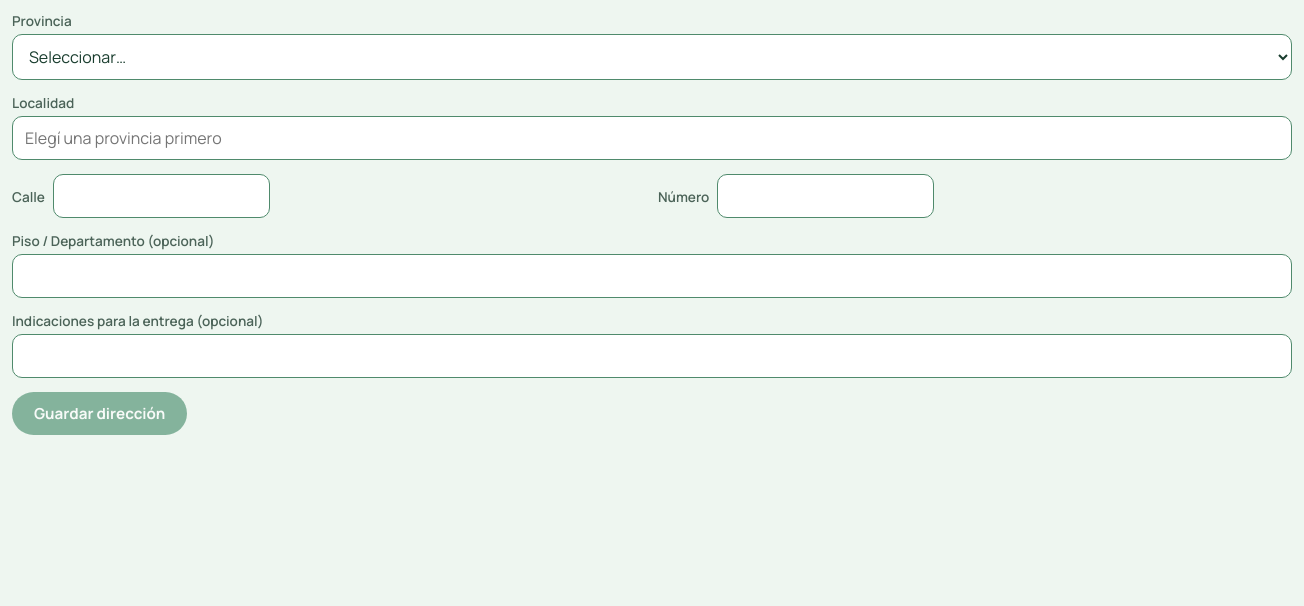
Test: DireccionForm › si falla la carga de localidades de la nueva provincia, no sugiere las de la provincia anterior (hallazgo de Codex)
The image size is (1304, 606).
Primero Santa Fe carga bien.
Select "Santa Fe" in the dropdown labelled "Provincia": {"x": 652, "y": 57} [12,34,1292,80]
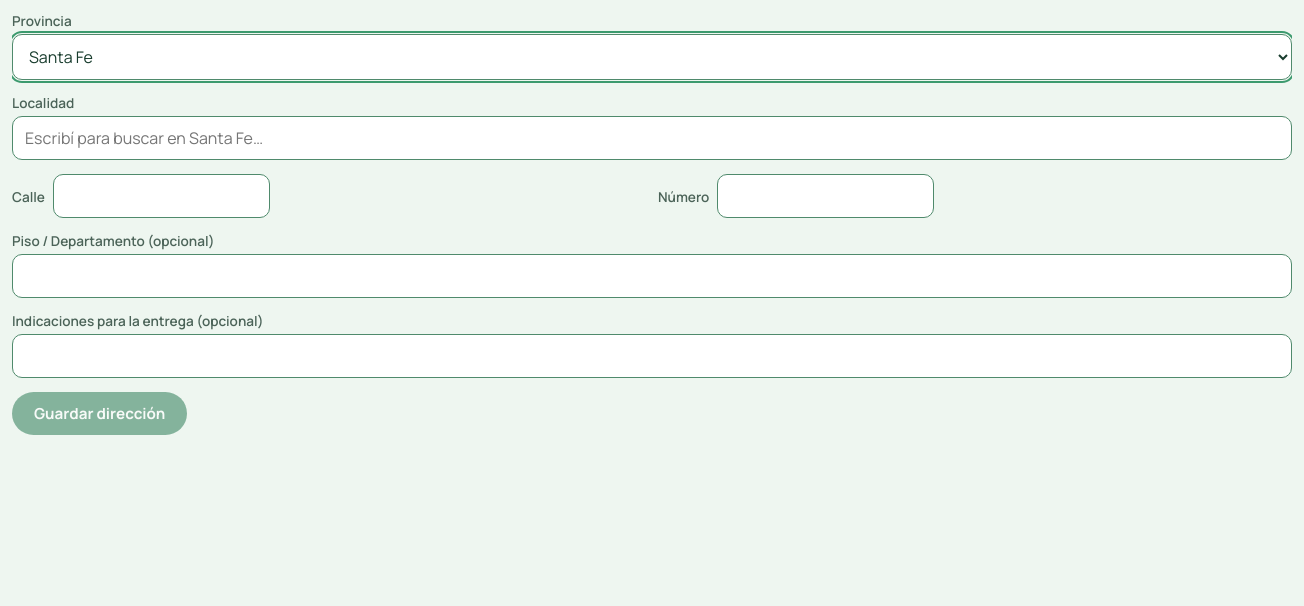
Check: the dropdown labelled "Localidad" is enabled, box [12,116,1292,160]
Select "Ciudad Autónoma de Buenos Aires" in the dropdown labelled "Provincia": {"x": 652, "y": 57} [12,34,1292,80]
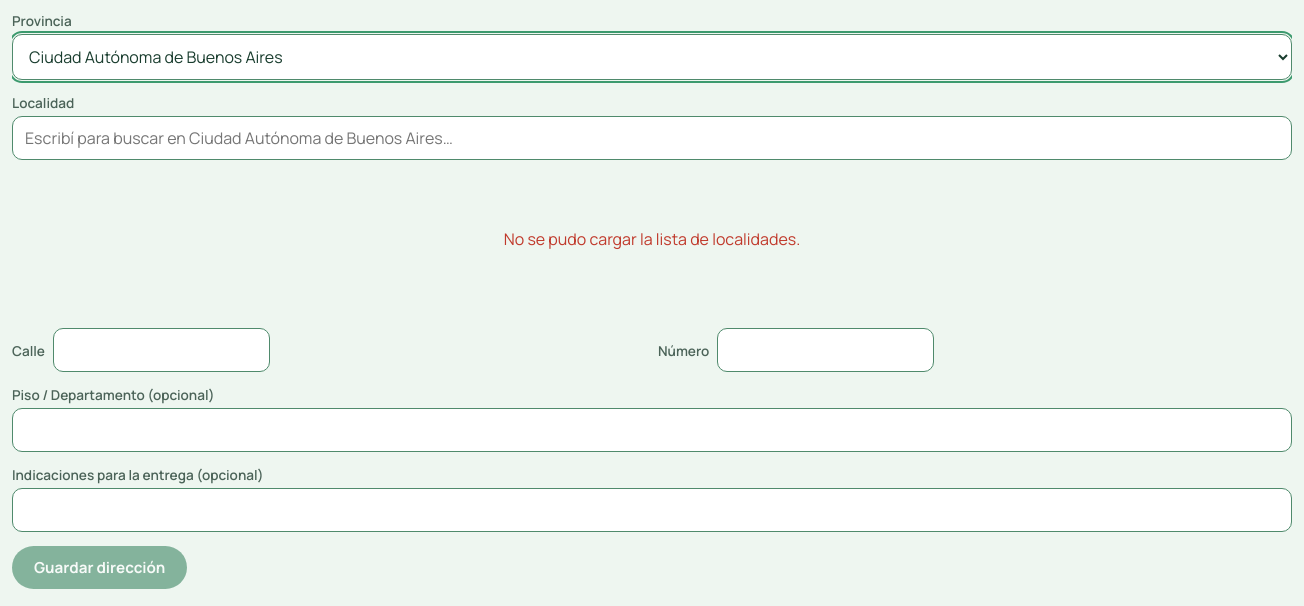
Check: the text "No se pudo cargar la lista de localidades." is shown, box [504,228,800,250]
Check: the dropdown labelled "Localidad" is disabled, box [12,116,1292,160]
